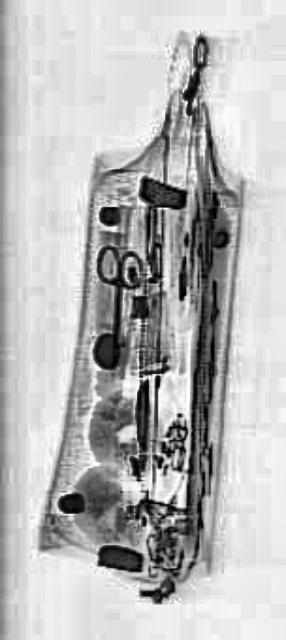Scissors: (87, 240, 141, 374)
